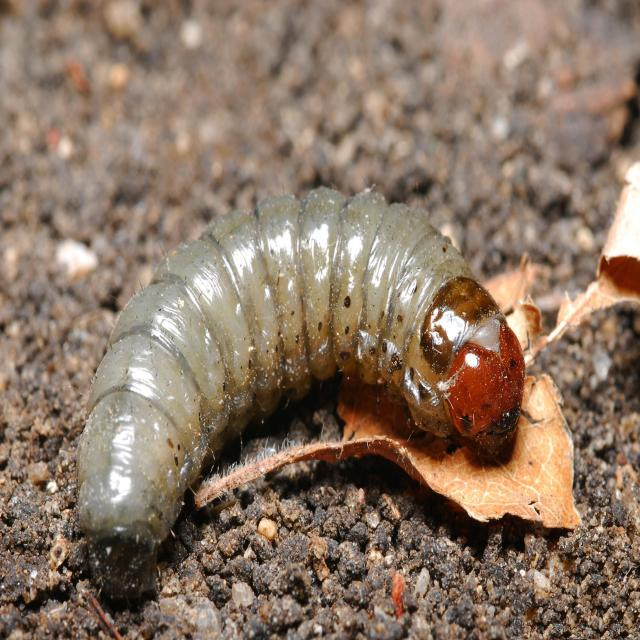worm: (76, 184, 527, 602)
